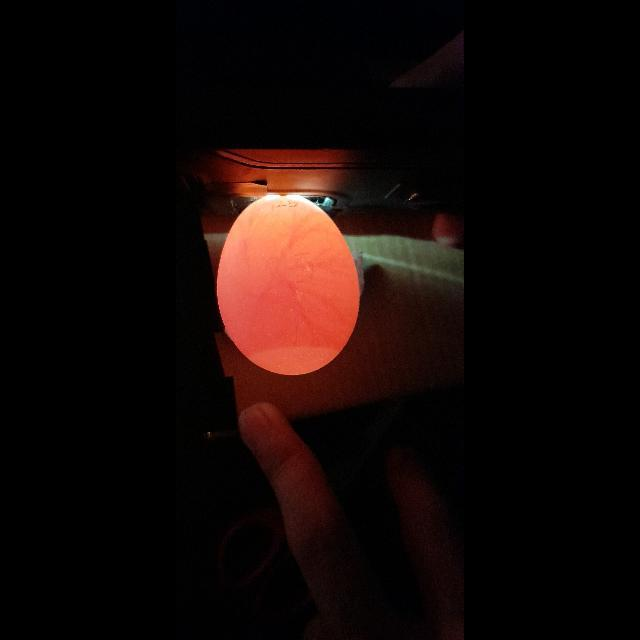Fertile: (213, 191, 363, 379)
